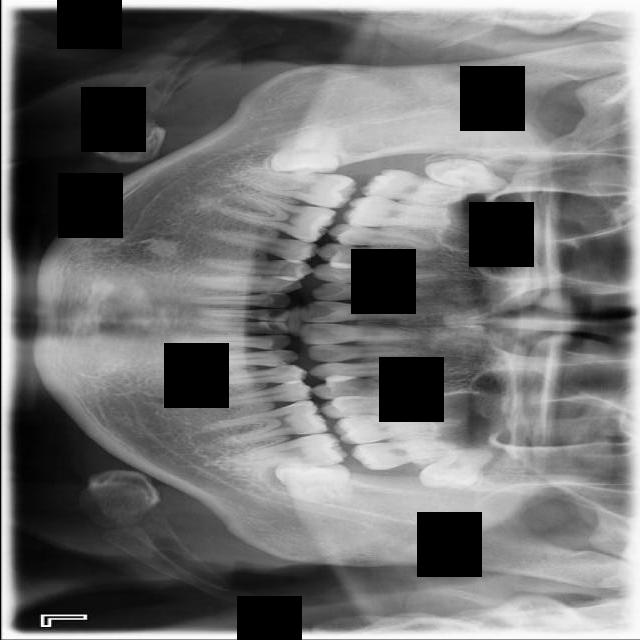3M ESPE Implant: (419, 149, 510, 200)
73: (27, 616, 33, 626)
BioHorizons Implant: (346, 433, 465, 474)
BioLife Implant: (417, 449, 493, 490)
Biomet 3i Implant: (274, 461, 351, 505)
Blue Sky Bio Implant: (232, 432, 347, 470)
Caries: (357, 162, 478, 218)
Implant: (241, 168, 356, 210)
Keystone Dental Implant: (267, 127, 341, 179)
